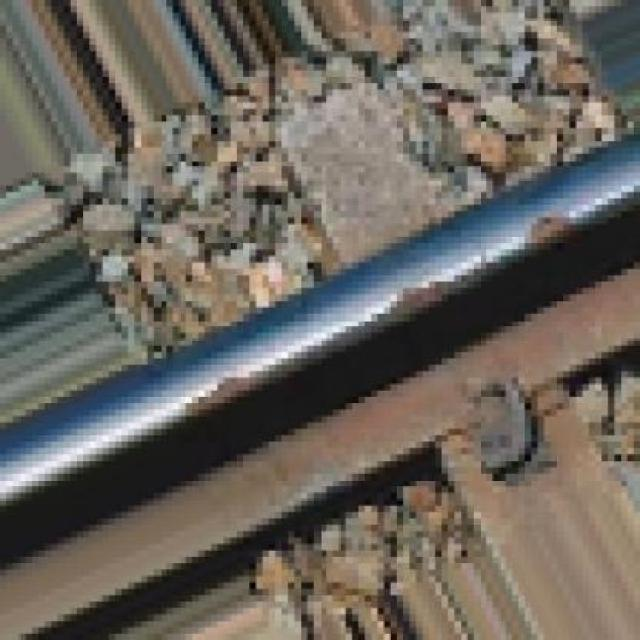defective: (122, 146, 626, 478)
